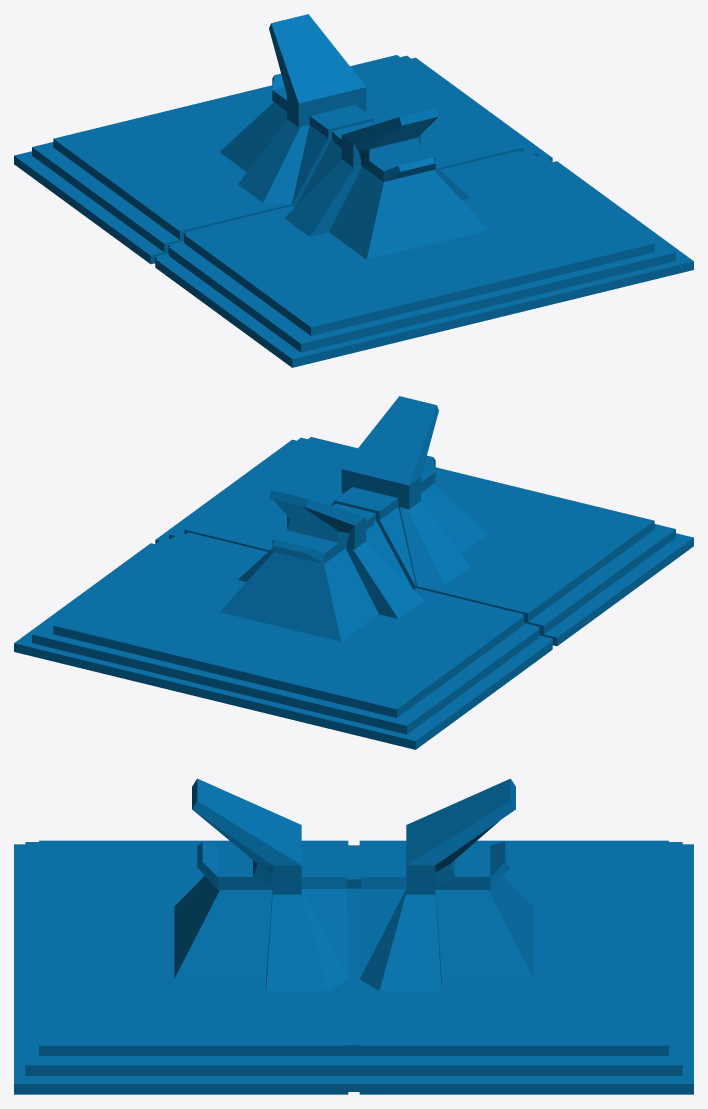
The model's file is M_Altar_10x12.fbx.
3 renders of one model, top to bottom at view 1: azimuth 30°, elevation 25°; view 2: azimuth 150°, elevation 25°; view 3: azimuth 270°, elevation 25°, orthographic. The views are drawn at different scales.
Parts seen in each view (by area): view 1: Altar_10x12; view 2: Altar_10x12; view 3: Altar_10x12.
Part boxes in pixels (bbox=[...]): Altar_10x12: bbox=[14, 14, 693, 367]; Altar_10x12: bbox=[14, 396, 693, 749]; Altar_10x12: bbox=[14, 778, 693, 1094].
Bounding box in the file's own units: 1000 × 360 × 1200.
